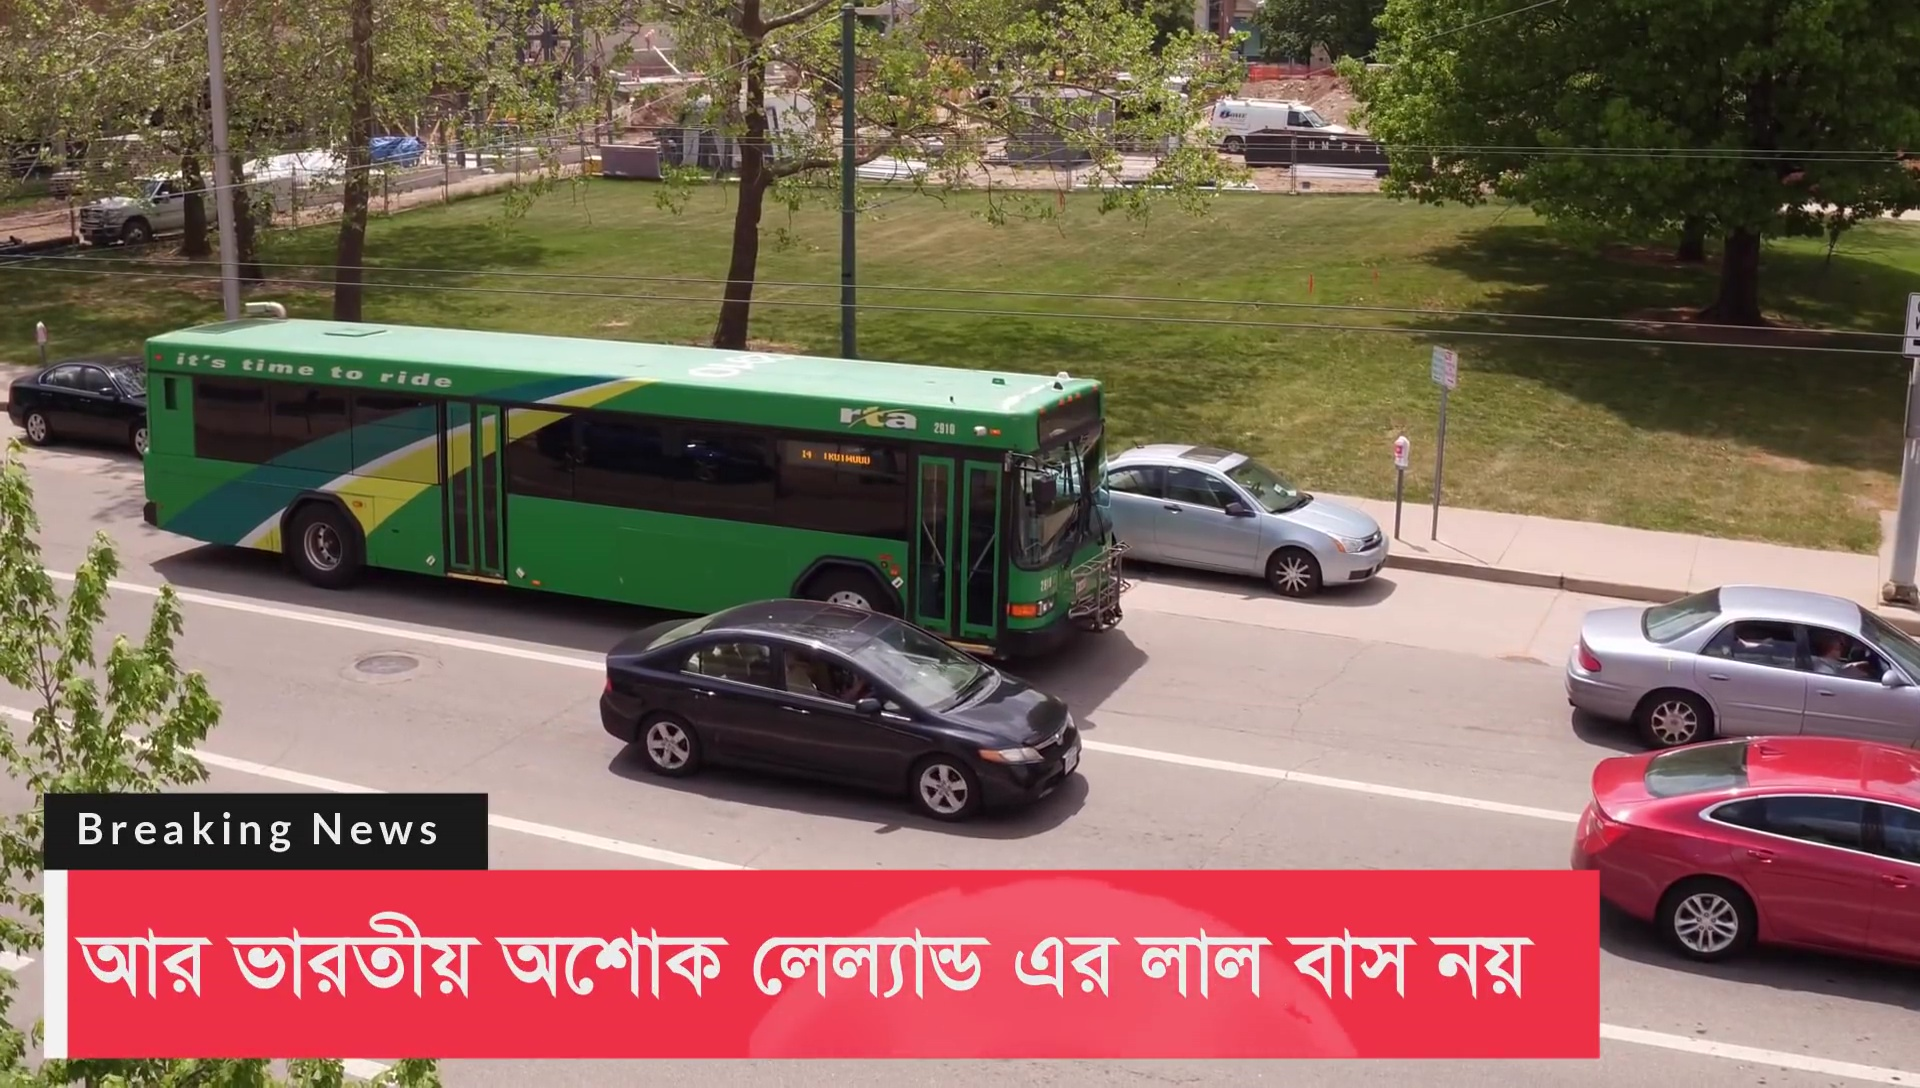car: (603, 597, 1088, 827), (1573, 732, 1920, 979), (1569, 575, 1920, 741), (1083, 434, 1394, 600), (3, 357, 165, 452)
